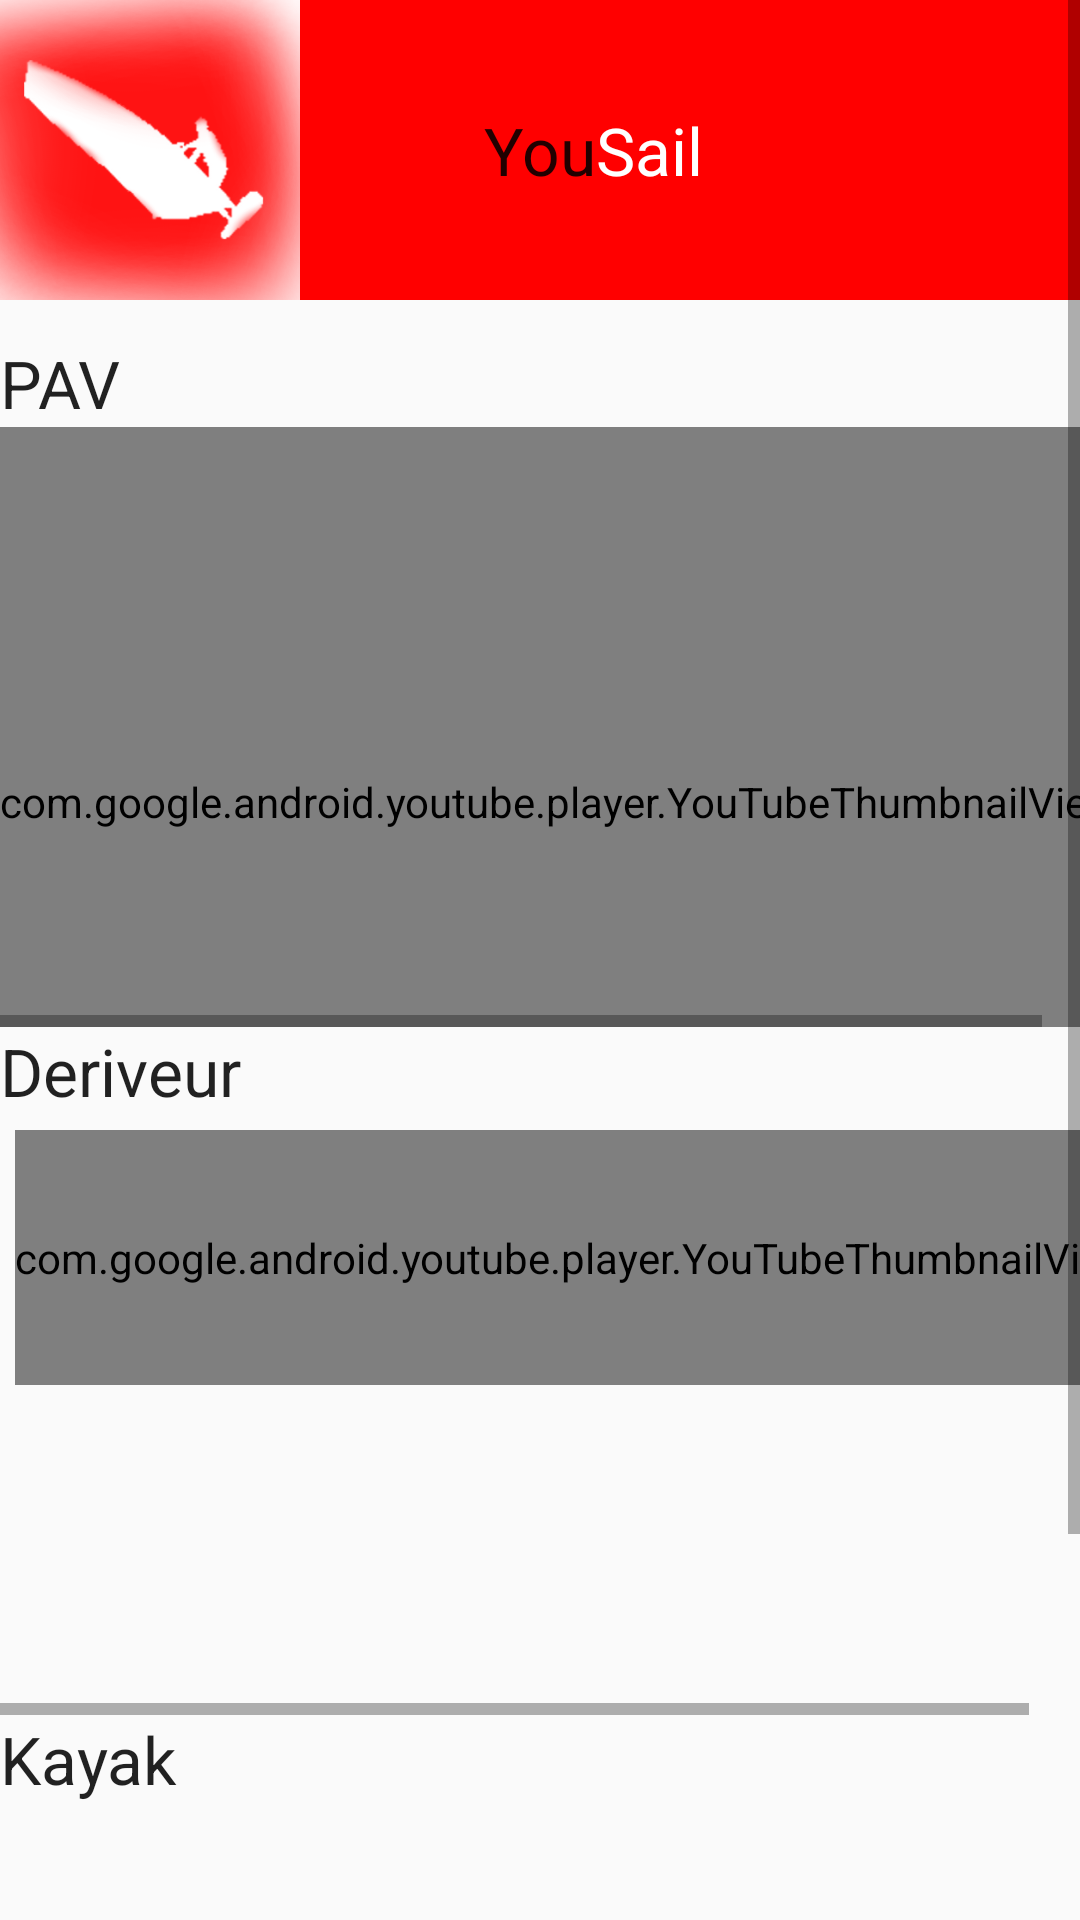

Point at icon controls on the screen. Image size 1080w x 1920h, points as point (x, y).
yousail: point (150, 150)
